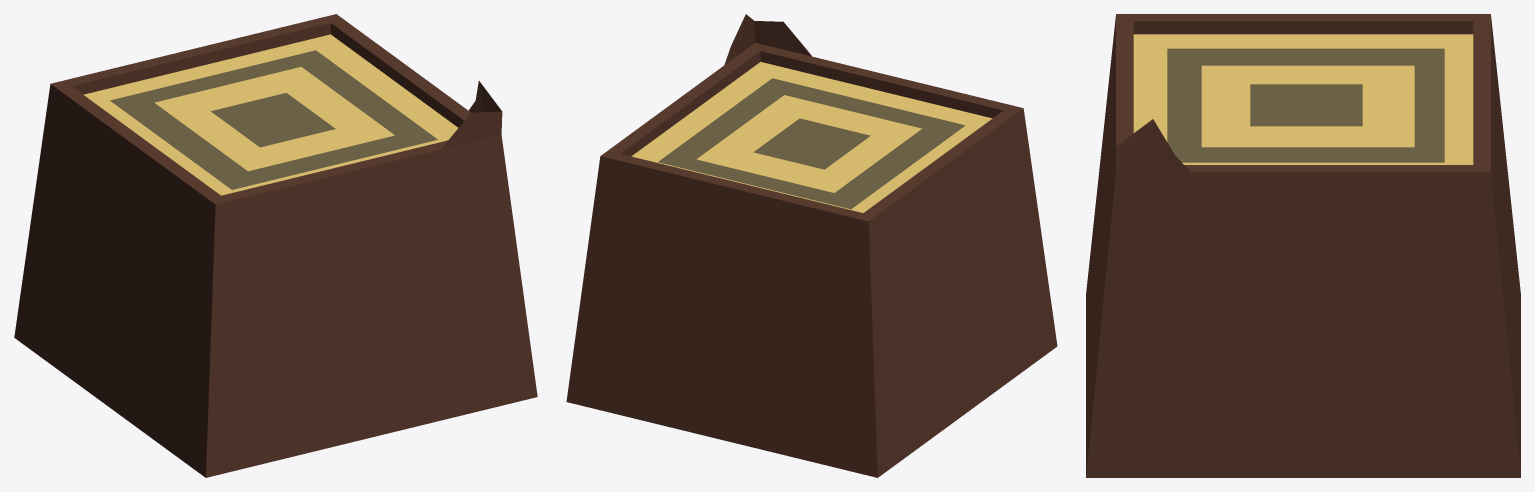
File: stump_oak.glb
3 views of the same model, side by side, from view 1: azimuth 30°, elevation 25°; view 2: azimuth 150°, elevation 25°; view 3: azimuth 270°, elevation 25° (orthographic). The views are drawn at different scales.
Visible parts, largest first — view 1: stump; view 2: stump; view 3: stump.
Boxes of the visible parts, x1,y1,x2,y2 form: stump: (14,14,537,477); stump: (566,14,1057,477); stump: (1086,14,1520,477).
Bounding box in the file's own units: 2 × 1.74 × 2.
